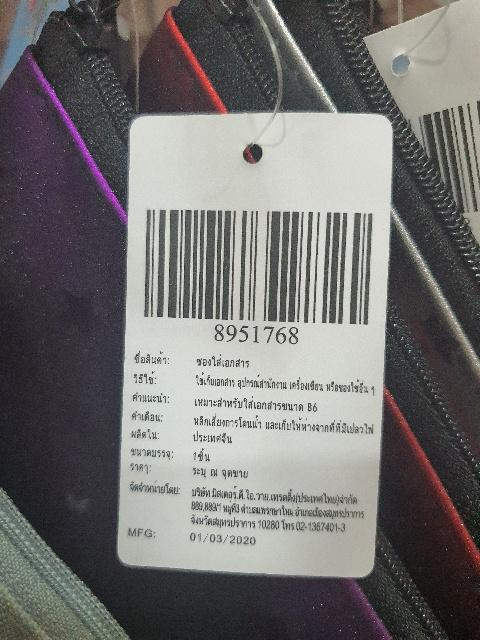Barcode: (136, 199, 382, 344)
